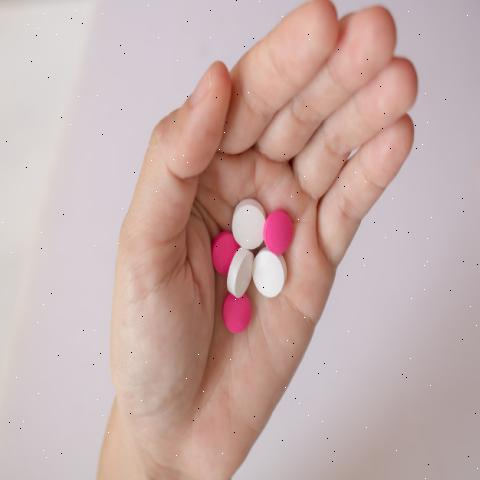Pill: (249, 248, 289, 302), (228, 197, 264, 248), (227, 248, 253, 302)
